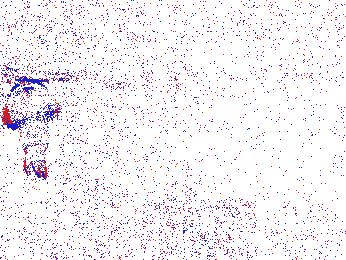flame jellyfish: (4, 81, 61, 178), (54, 200, 113, 256), (207, 196, 257, 248)
